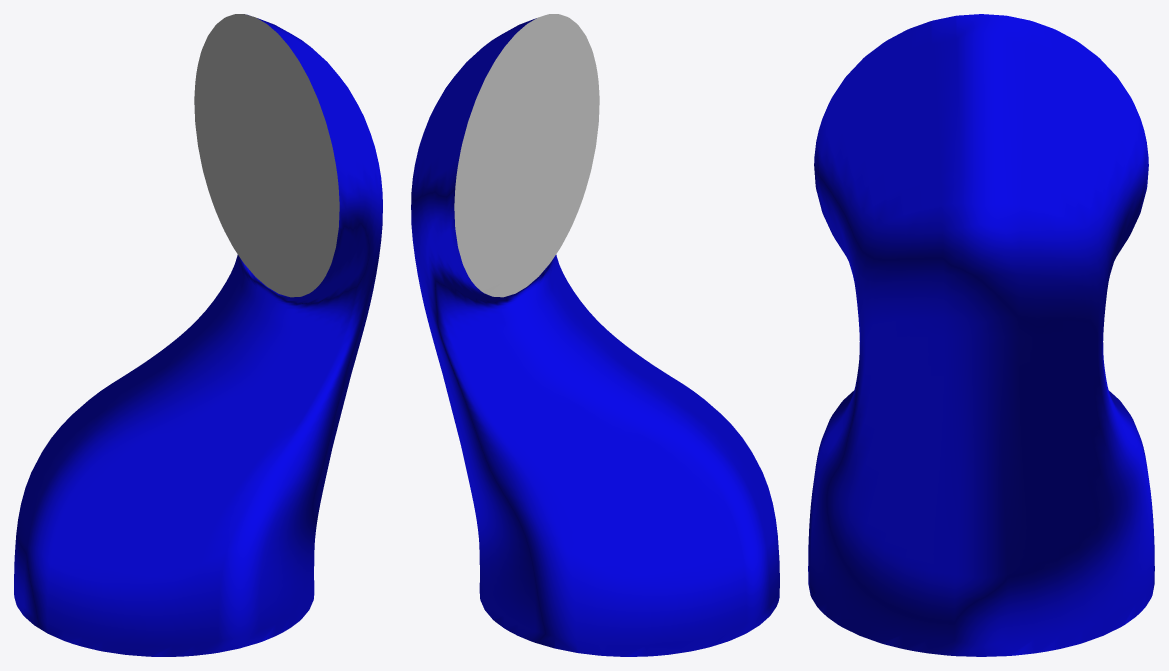
3 views of the same model, side by side, from view 1: azimuth 30°, elevation 25°; view 2: azimuth 150°, elevation 25°; view 3: azimuth 270°, elevation 25° (orthographic). The views are drawn at different scales.
Visible parts, largest first — view 1: link5; view 2: link5; view 3: link5.
Boxes of the visible parts, box(x1,y1,x2,y2) form: link5: box(14, 14, 382, 656); link5: box(411, 14, 779, 656); link5: box(808, 14, 1154, 656).
Bounding box in the file's own units: 0.1482 × 0.1191 × 0.238.
